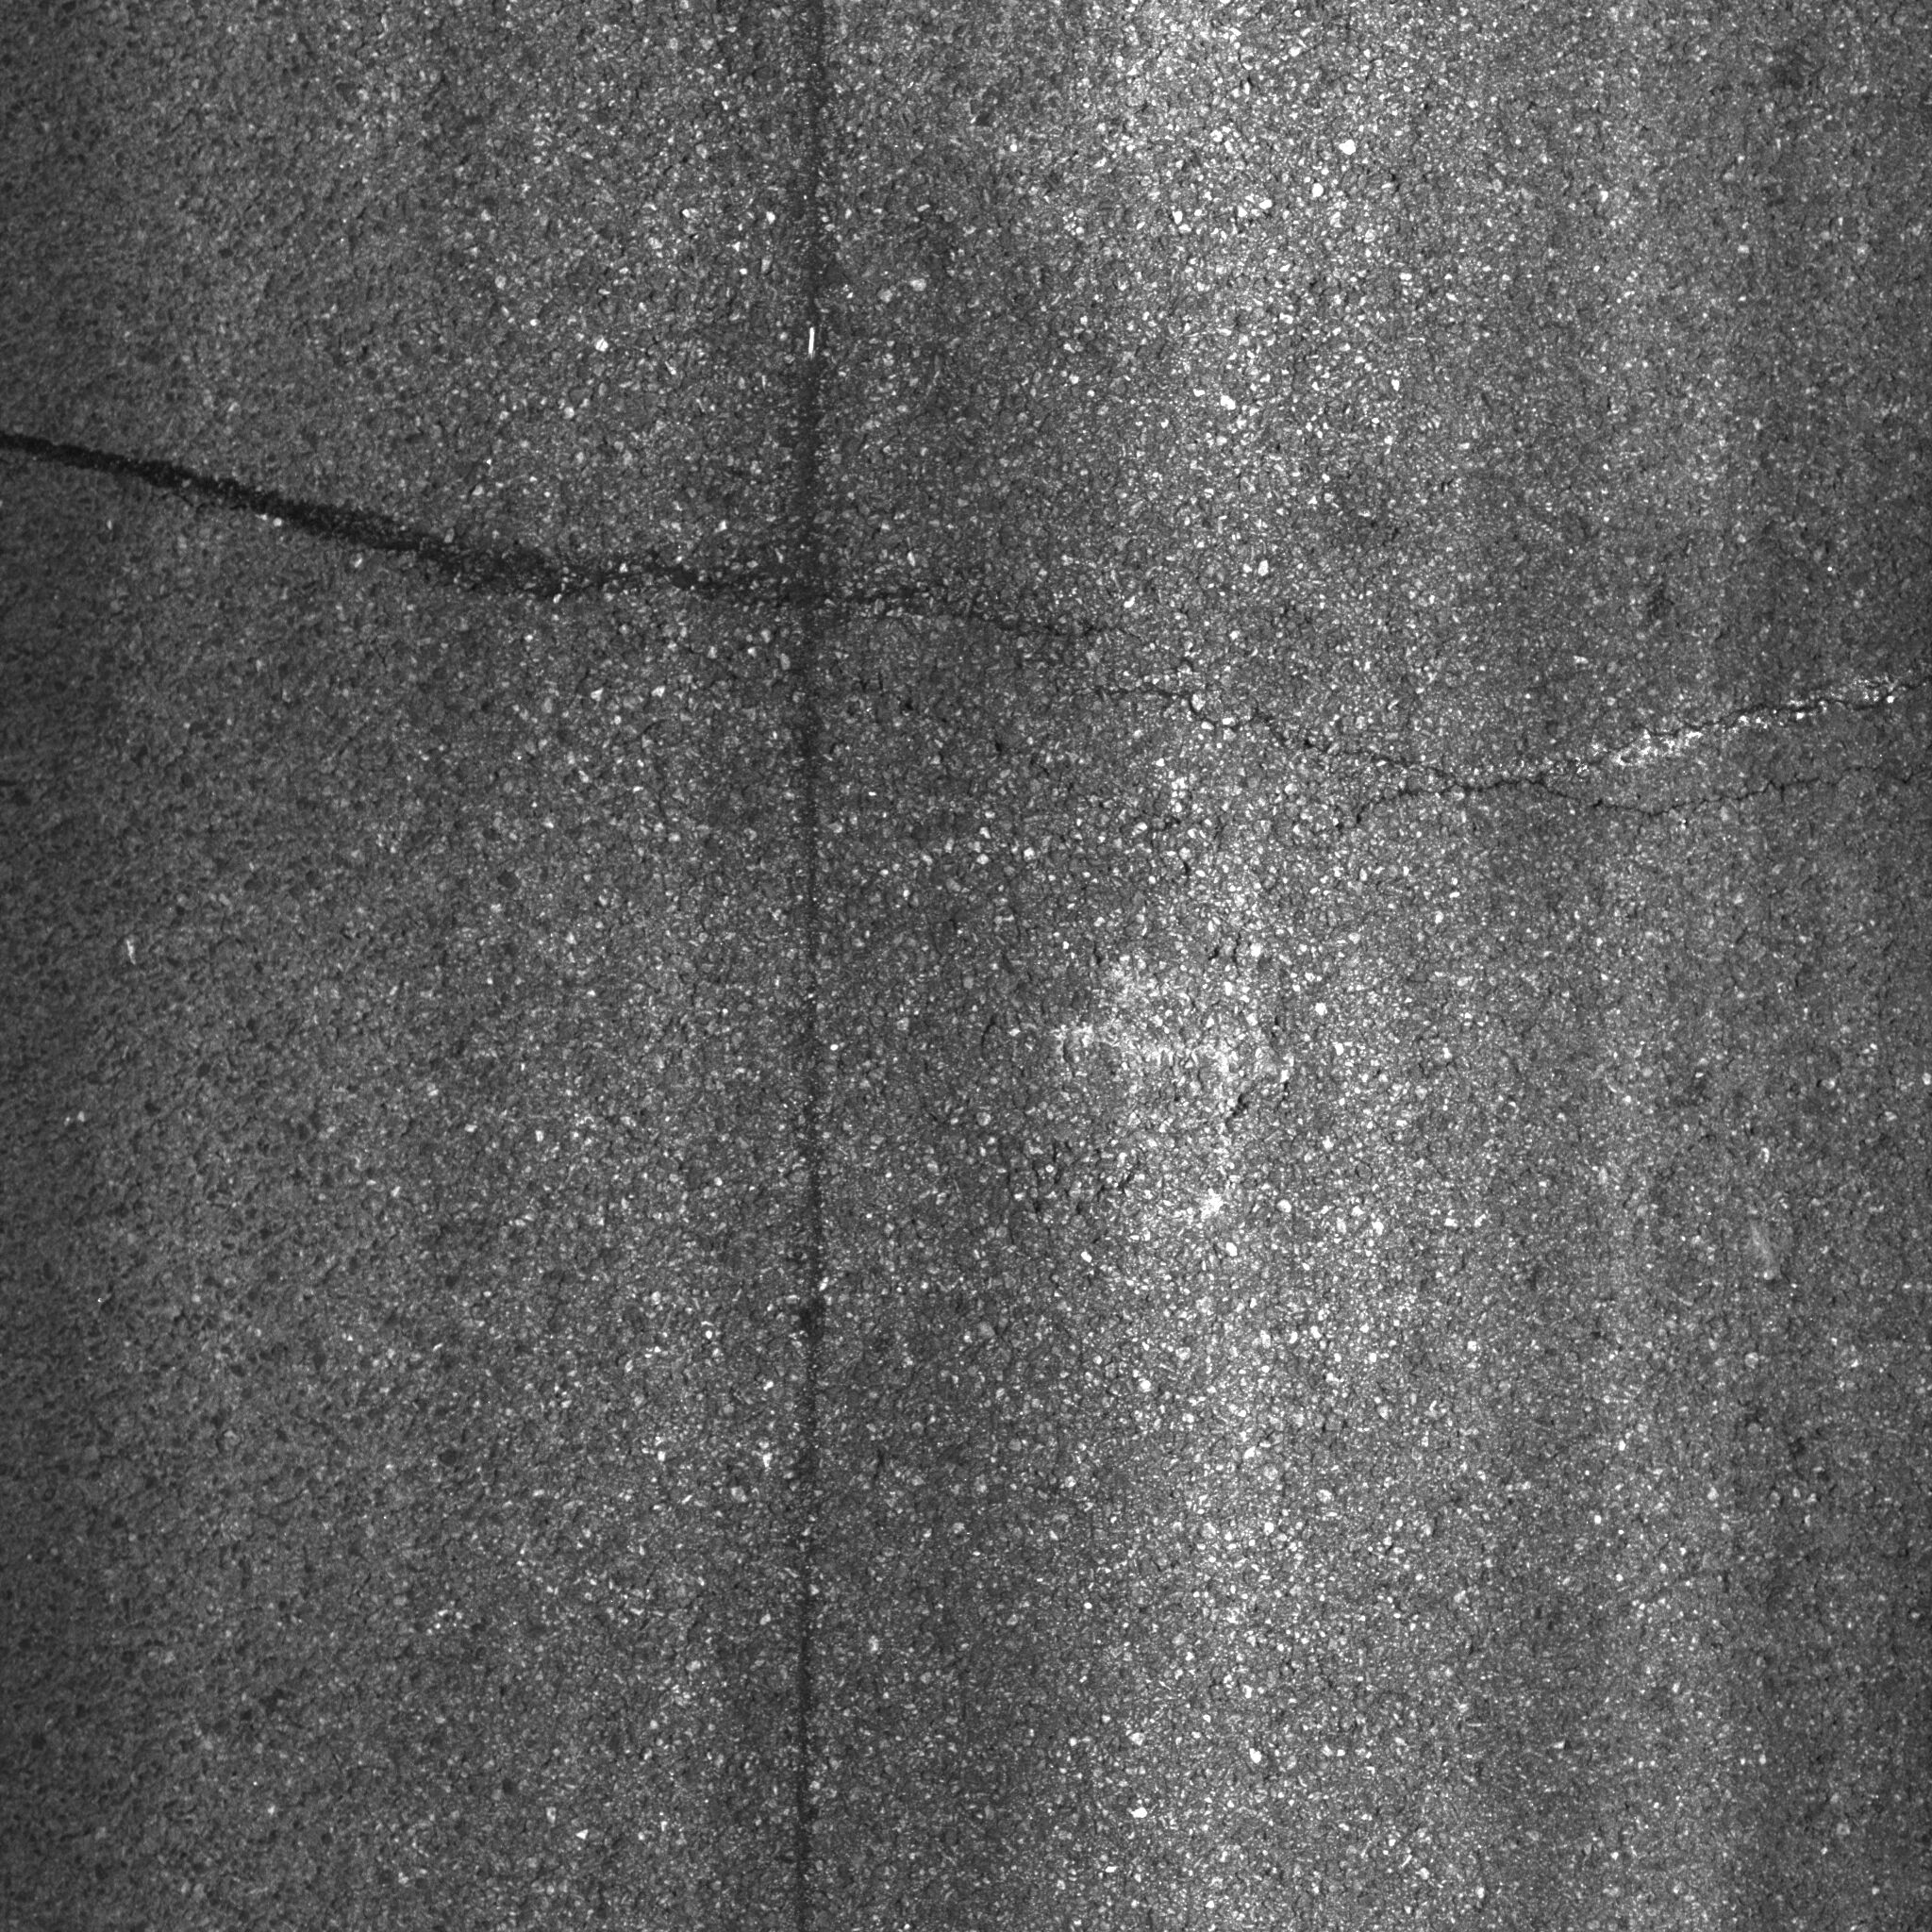transverse: (7, 402, 1932, 862)
